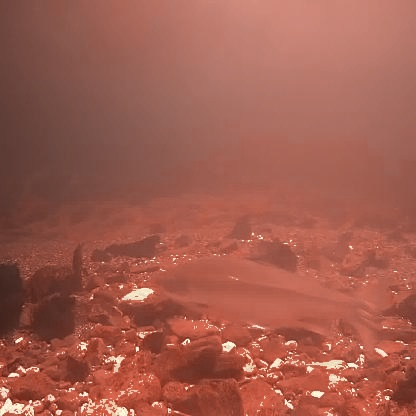salmon: (149, 245, 388, 355)
